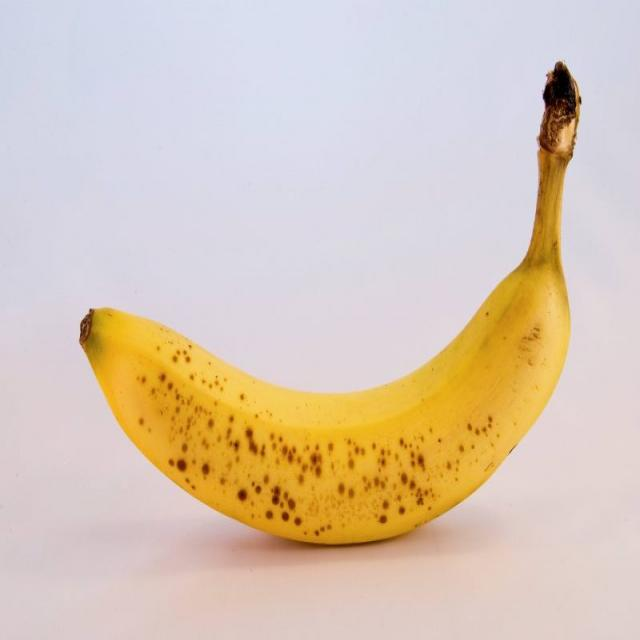Banana: (77, 235, 567, 548)
